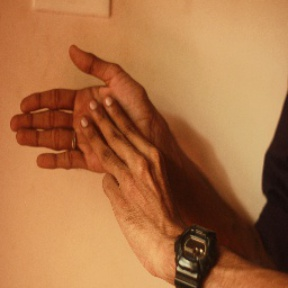M: (9, 43, 160, 189)
